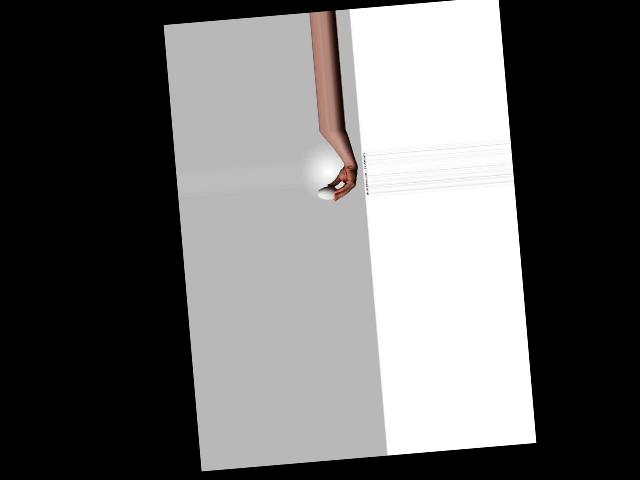egg: (316, 185, 338, 200)
